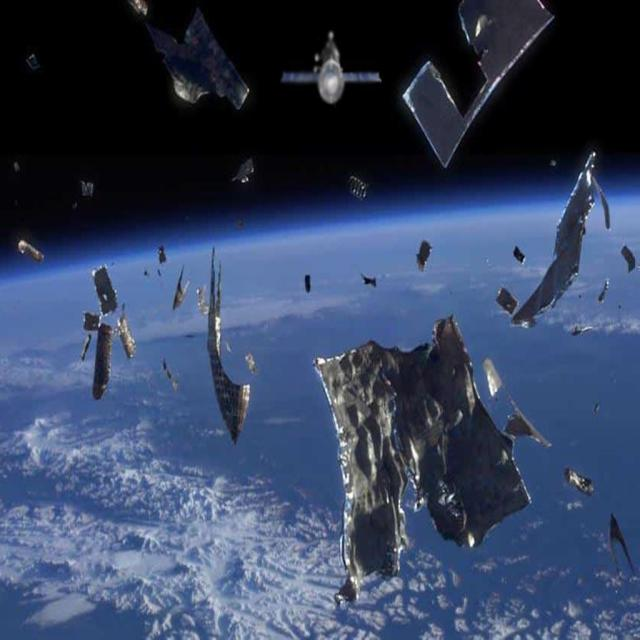large_debris: (312, 317, 548, 608), (403, 1, 554, 168), (510, 151, 593, 327), (128, 0, 250, 109), (207, 250, 249, 447), (608, 513, 632, 583), (91, 326, 112, 398), (92, 264, 119, 316), (117, 312, 138, 365), (593, 177, 612, 231), (172, 262, 191, 311), (566, 469, 596, 497), (482, 357, 502, 395), (161, 355, 179, 394), (414, 239, 433, 274), (496, 285, 519, 313), (19, 240, 44, 264), (233, 159, 255, 183), (82, 310, 102, 333), (620, 245, 635, 275), (351, 171, 365, 200), (569, 322, 592, 338), (246, 350, 260, 376), (198, 284, 209, 316), (597, 279, 610, 306), (512, 246, 526, 265), (82, 333, 93, 357), (81, 181, 94, 197), (158, 245, 167, 266), (591, 402, 603, 417), (362, 275, 376, 286), (306, 274, 311, 292), (550, 158, 558, 168), (158, 268, 163, 278), (143, 270, 149, 277)
medium_debris: (281, 30, 381, 103)
